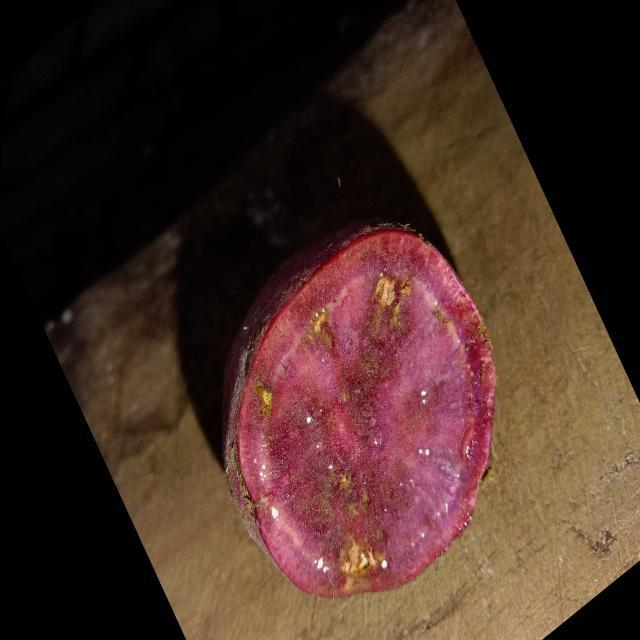Sick Sweet Potato_Tuber Rot: (222, 222, 494, 598)
